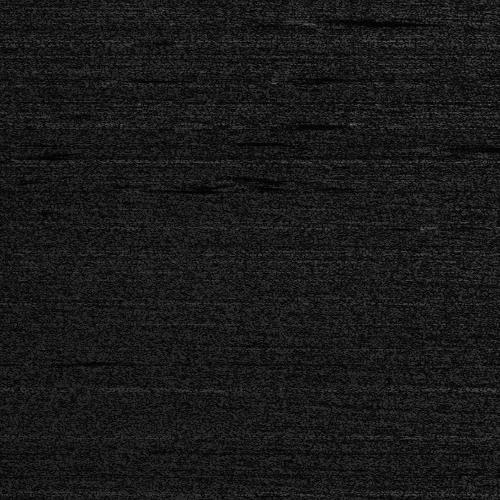object: (294, 15, 357, 26), (402, 144, 455, 149), (484, 151, 500, 156)
shadow: (326, 15, 427, 26), (429, 144, 500, 149)
